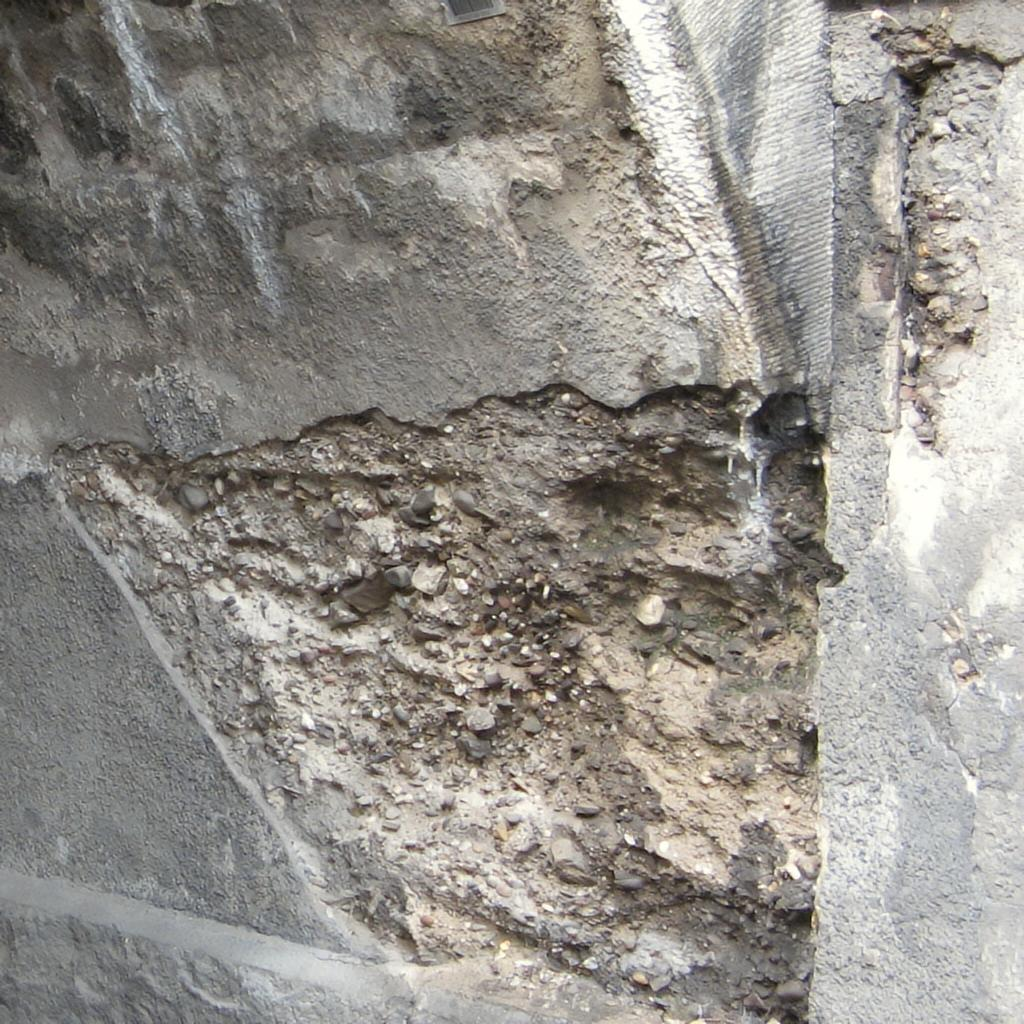spalling: (50, 384, 834, 1024)
